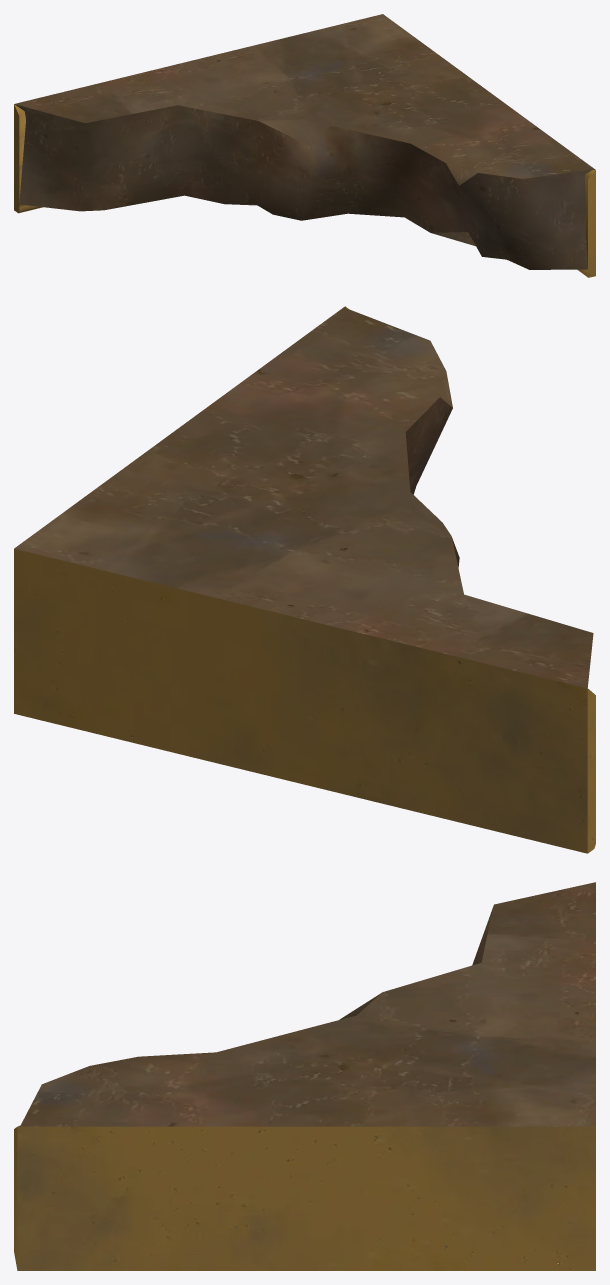
3 renders of one model, top to bottom at view 1: azimuth 30°, elevation 25°; view 2: azimuth 150°, elevation 25°; view 3: azimuth 270°, elevation 25°, orthographic. The views are drawn at different scales.
Parts seen in each view (by area): view 1: SM_Vault_4x4_Ceiling_Dmg_02_LOD0; view 2: SM_Vault_4x4_Ceiling_Dmg_02_LOD0; view 3: SM_Vault_4x4_Ceiling_Dmg_02_LOD0.
Part boxes in pixels (left/top/right/bottom): SM_Vault_4x4_Ceiling_Dmg_02_LOD0: left=14, top=14, right=595, bottom=277; SM_Vault_4x4_Ceiling_Dmg_02_LOD0: left=14, top=306, right=595, bottom=853; SM_Vault_4x4_Ceiling_Dmg_02_LOD0: left=14, top=882, right=595, bottom=1270.
Bounding box in the file's own units: 2 × 0.5675 × 2.01.
2 materials, 2 textured.
